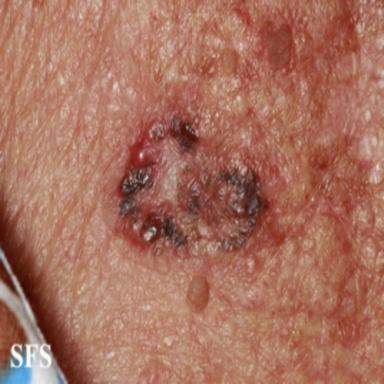basal-cell-carcinoma: (112, 80, 295, 261)
